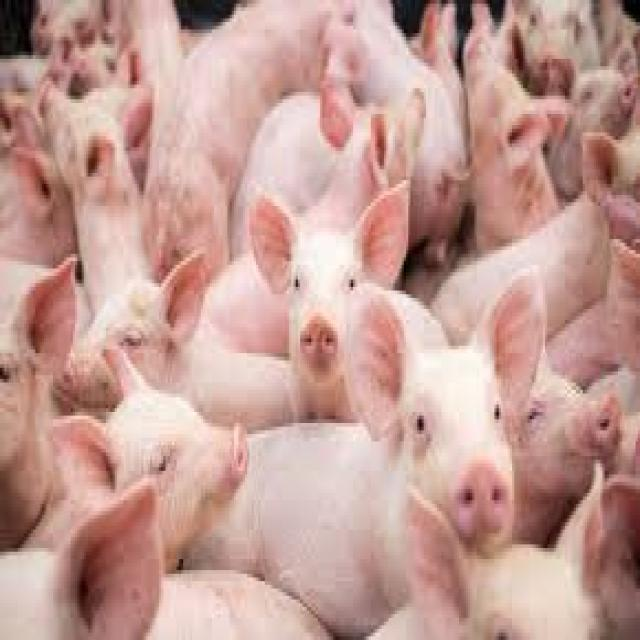Pig: (214, 274, 552, 622), (238, 177, 408, 421)
